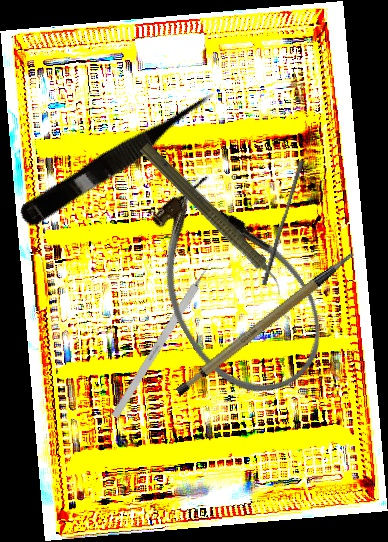Cannula: (120, 160, 346, 418)
Handpiece: (133, 139, 294, 299)
Hook Surgical: (110, 253, 219, 420)
Micro Scissor: (15, 83, 226, 234)
Pusher: (261, 158, 305, 288)
Scalpel Handle: (160, 250, 374, 399)
